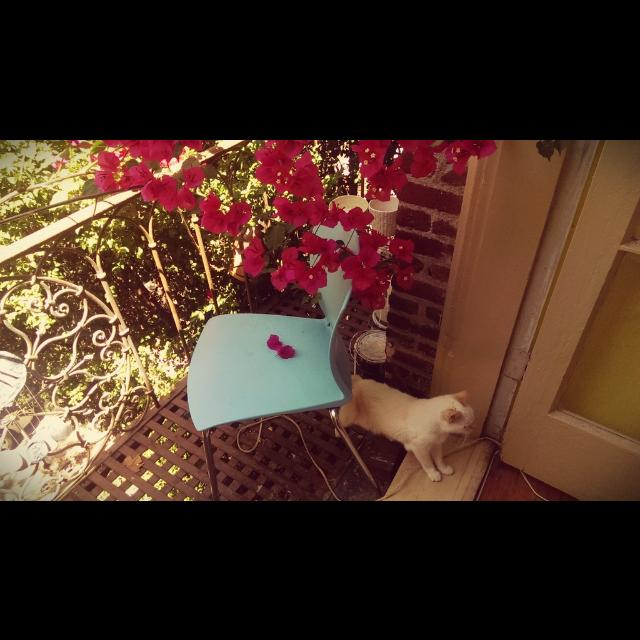Flower: (93, 139, 499, 309), (389, 234, 418, 262)
